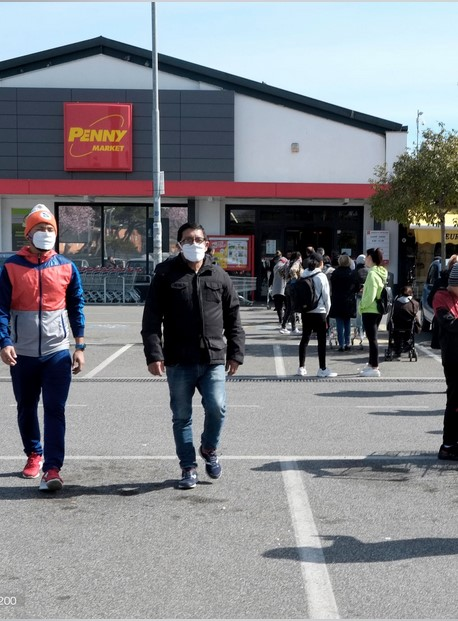face_with_mask: (174, 222, 213, 267), (23, 209, 60, 255)
